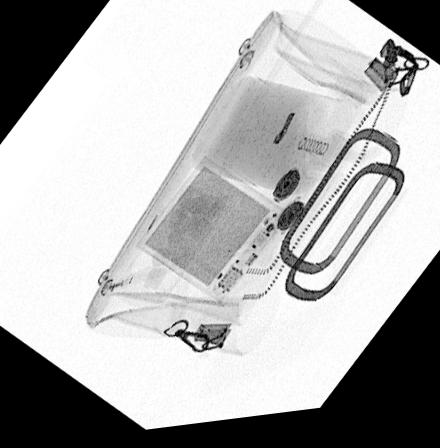Powerbank: (134, 160, 293, 310)
